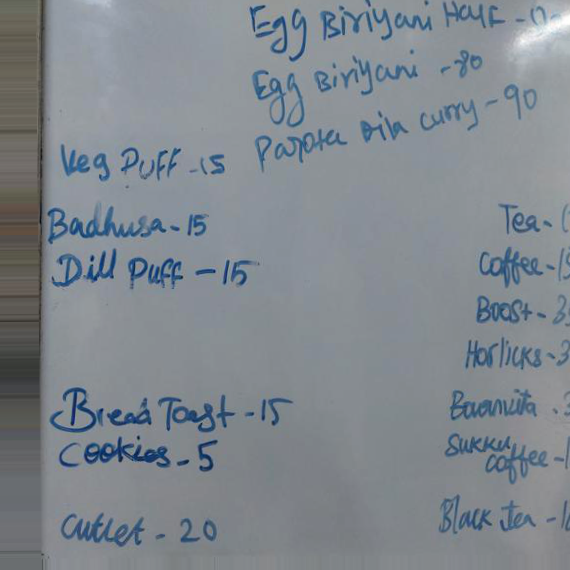Tea - 10: (491, 199, 570, 237)
badhusa -15: (46, 200, 219, 246)
black tea - 10: (437, 493, 570, 534)
boost - 35: (475, 293, 570, 326)
bournvita - 35: (444, 384, 570, 423)
bread toast - 15: (44, 382, 295, 433)
coffee - 15: (475, 244, 570, 285)
cookies - 5: (52, 433, 229, 480)
cutlet - 20: (54, 511, 232, 548)
dill puff - 15: (50, 248, 264, 295)
egg briyani - 80: (245, 51, 435, 106)
egg briyani half -50: (243, 1, 570, 47)
horlicks - 35: (464, 333, 570, 372)
parotta - 90: (247, 104, 482, 173)
sukku coffee - 10: (441, 424, 570, 483)
veg puff - 15: (51, 143, 236, 184)
